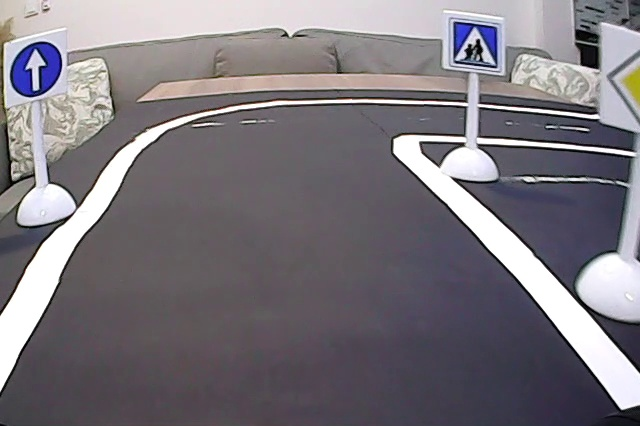school crossing: (447, 16, 501, 72)
